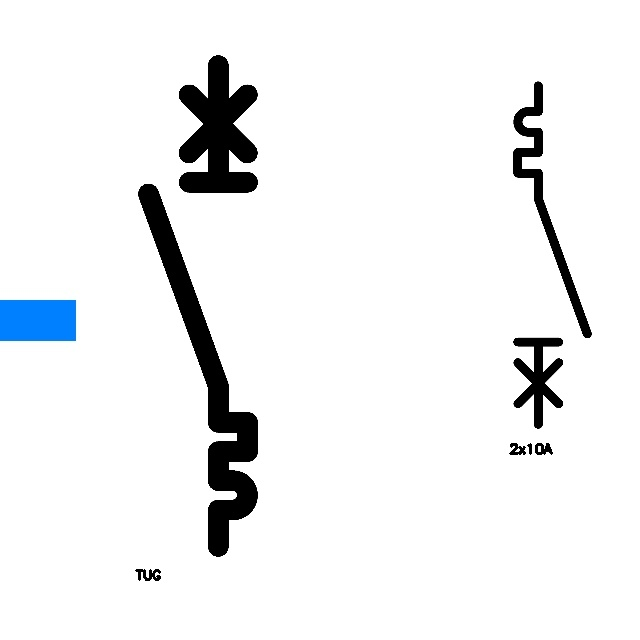interruptor_termomagnetico: (136, 53, 260, 559), (509, 77, 596, 433)
